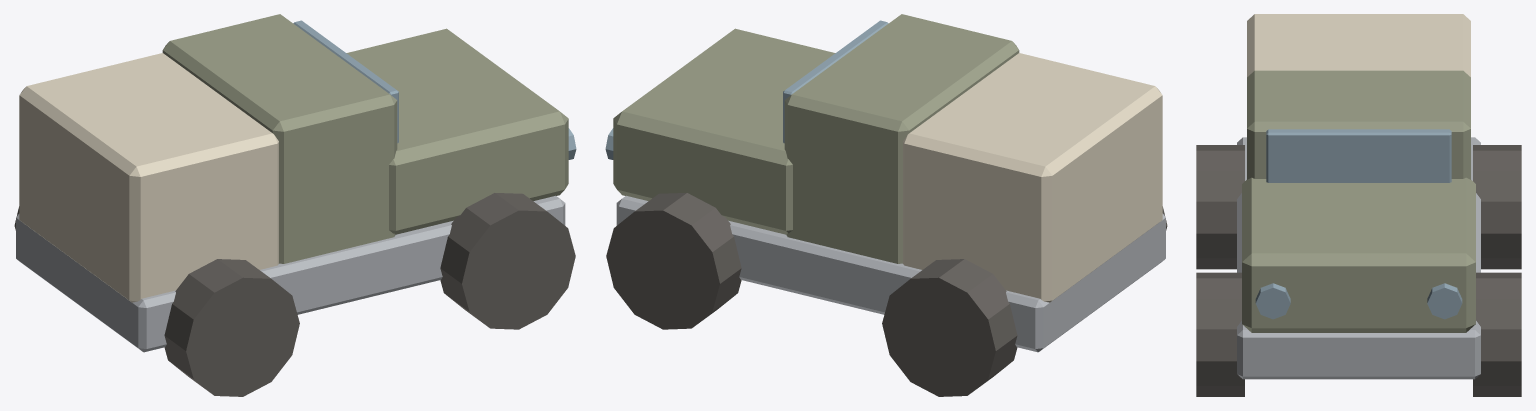
The model's file is scout_vehicle.glb.
3 views of the same model, side by side, from view 1: azimuth 30°, elevation 25°; view 2: azimuth 150°, elevation 25°; view 3: azimuth 270°, elevation 25° (orthographic). The views are drawn at different scales.
Visible parts, largest first — view 1: Canvas cargo, Cab, Hood, Jeep chassis, Rubber tire, Rubber tire.002, Windshield; view 2: Canvas cargo, Cab, Hood, Jeep chassis, Rubber tire.001, Rubber tire.003, Windshield; view 3: Hood, Cab, Canvas cargo, Jeep chassis, Windshield, Rubber tire.002, Rubber tire.003, Rubber tire, Rubber tire.001, Headlamp, Headlamp.001.
Part boxes in pixels (bbox=[...]): Canvas cargo: bbox=[19, 53, 278, 302]; Cab: bbox=[162, 14, 397, 263]; Hood: bbox=[346, 28, 568, 234]; Jeep chassis: bbox=[16, 195, 565, 352]; Rubber tire: bbox=[164, 259, 299, 396]; Rubber tire.002: bbox=[440, 193, 575, 329]; Windshield: bbox=[293, 20, 398, 143]; Canvas cargo: bbox=[903, 53, 1162, 302]; Cab: bbox=[784, 14, 1019, 263]; Hood: bbox=[613, 28, 835, 234]; Jeep chassis: bbox=[616, 195, 1165, 352]; Rubber tire.001: bbox=[882, 259, 1017, 396]; Rubber tire.003: bbox=[606, 193, 741, 329]; Windshield: bbox=[783, 20, 888, 143]; Hood: bbox=[1242, 177, 1475, 332]; Cab: bbox=[1247, 70, 1470, 179]; Canvas cargo: bbox=[1247, 14, 1470, 76]; Jeep chassis: bbox=[1237, 137, 1480, 379]; Windshield: bbox=[1266, 129, 1451, 182]; Rubber tire.002: bbox=[1196, 272, 1244, 396]; Rubber tire.003: bbox=[1473, 272, 1521, 396]; Rubber tire: bbox=[1196, 145, 1244, 269]; Rubber tire.001: bbox=[1473, 145, 1521, 269]; Headlamp: bbox=[1255, 283, 1290, 319]; Headlamp.001: bbox=[1427, 283, 1462, 319].
Bounding box in the file's own units: 0.2515 × 0.127 × 0.167.
